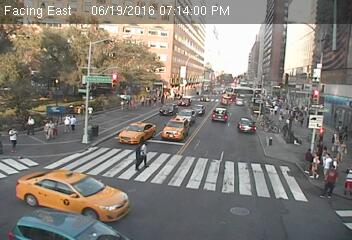neg: (159, 116, 190, 157), (79, 137, 102, 166), (259, 124, 280, 151), (48, 157, 68, 184), (14, 171, 31, 193), (233, 131, 246, 149), (119, 110, 132, 127)
pos: (130, 136, 157, 173), (320, 164, 345, 198), (295, 147, 318, 178), (316, 152, 336, 178), (2, 125, 21, 150), (338, 164, 351, 198), (84, 102, 102, 126), (20, 110, 36, 132), (69, 111, 85, 132), (43, 120, 58, 139), (58, 113, 70, 130)
